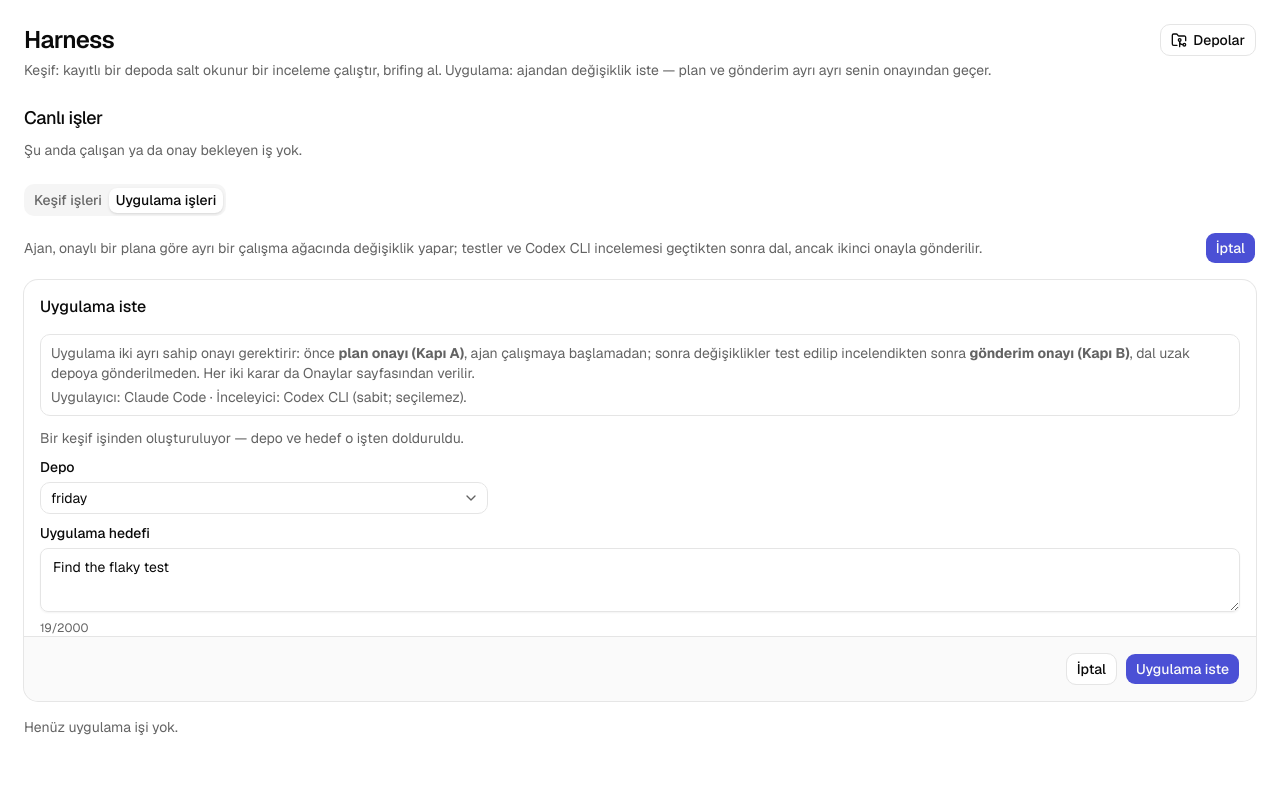
HarnessJobsView › opens the implementation form prefilled from a discovery job link, and links the new job
The image size is (1280, 800).
Expected: the text box labelled "Uygulama hedefi" holds "Find the flaky test", x1=40 y1=548 x2=1240 y2=612
Expected: the dropdown named "Depo" reads "friday", x1=40 y1=482 x2=488 y2=514
Click the button "Uygulama iste" at x=1182, y=669, box x1=1125 y1=653 x2=1240 y2=685
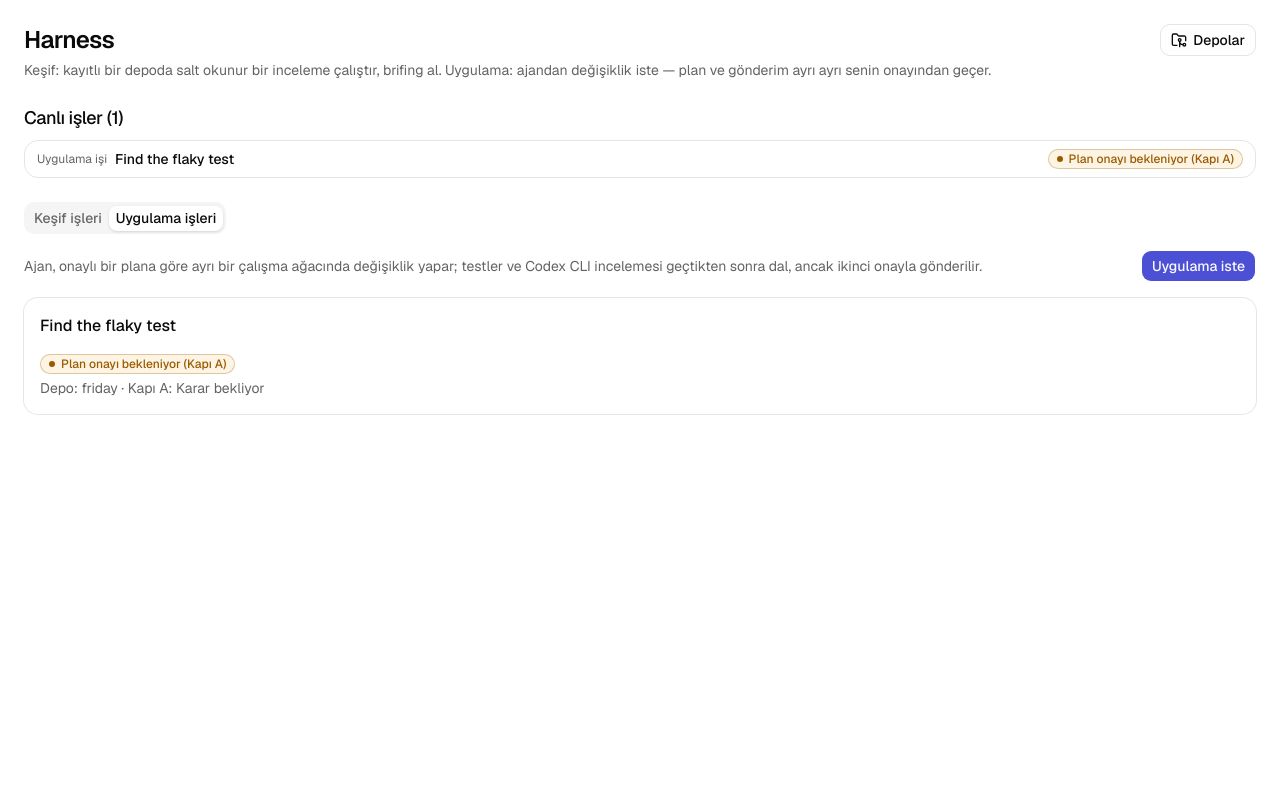
Now the link "Find the flaky test" is shown, box x1=24 y1=140 x2=1256 y2=178
